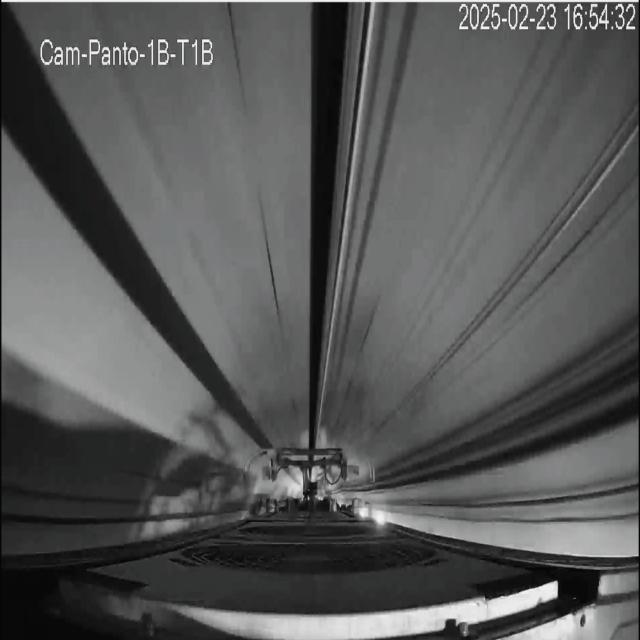Camera Stamp: (36, 29, 222, 70)
Date Stamp: (459, 3, 636, 33)
No - Spark: (250, 444, 370, 517)
